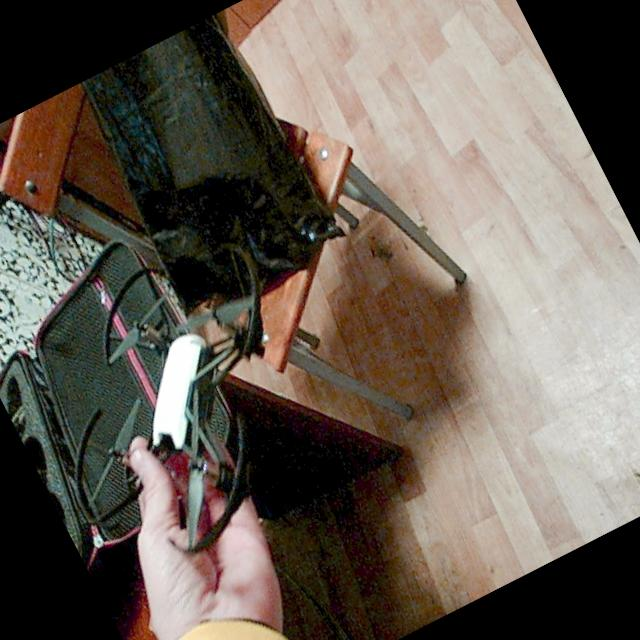drone: (0, 205, 372, 604)
